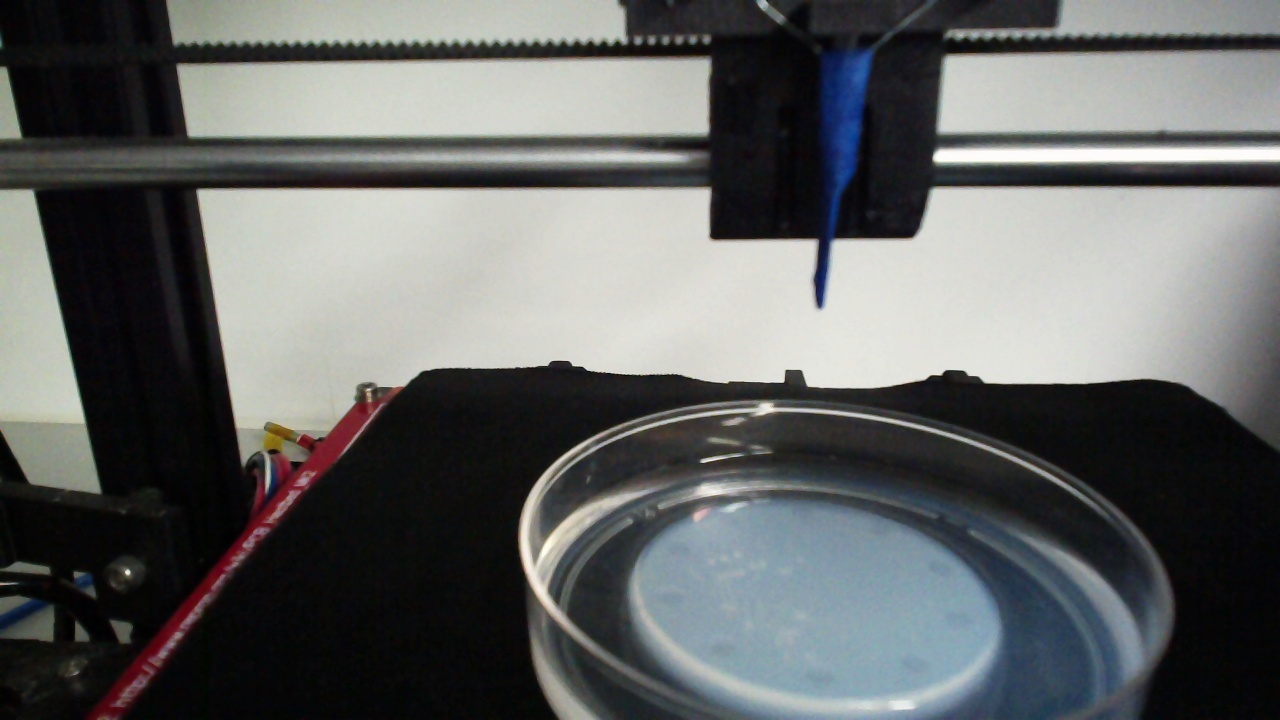groove: (803, 668, 833, 687), (900, 655, 930, 674), (946, 612, 973, 629), (659, 591, 686, 607), (868, 520, 893, 537), (791, 503, 816, 520), (709, 641, 735, 656), (927, 562, 952, 577), (667, 541, 690, 555)
needle: (813, 53, 870, 306)
